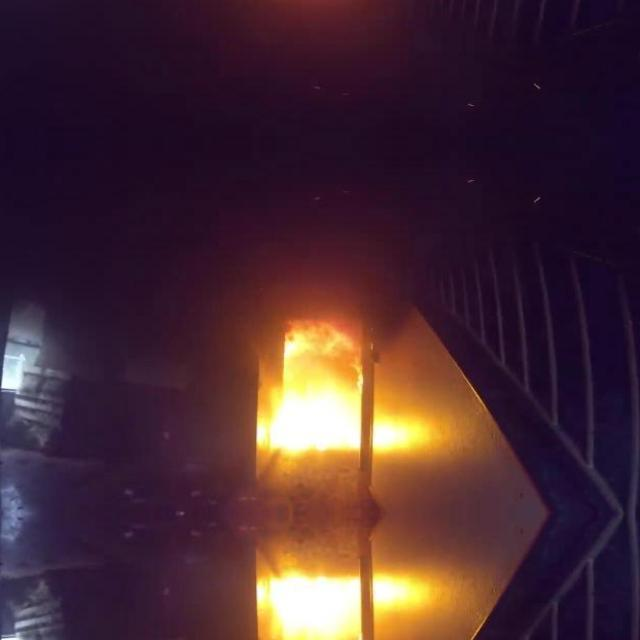smoke: (257, 316, 428, 454), (257, 572, 428, 640)
